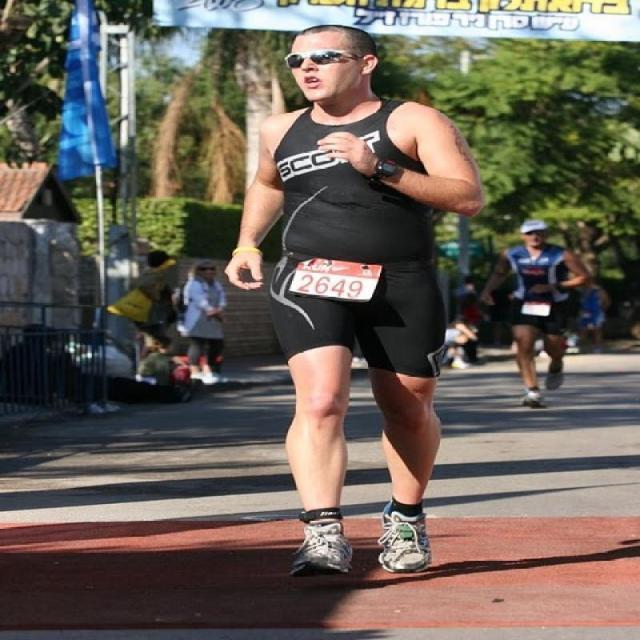dorsal: (290, 254, 389, 304)
